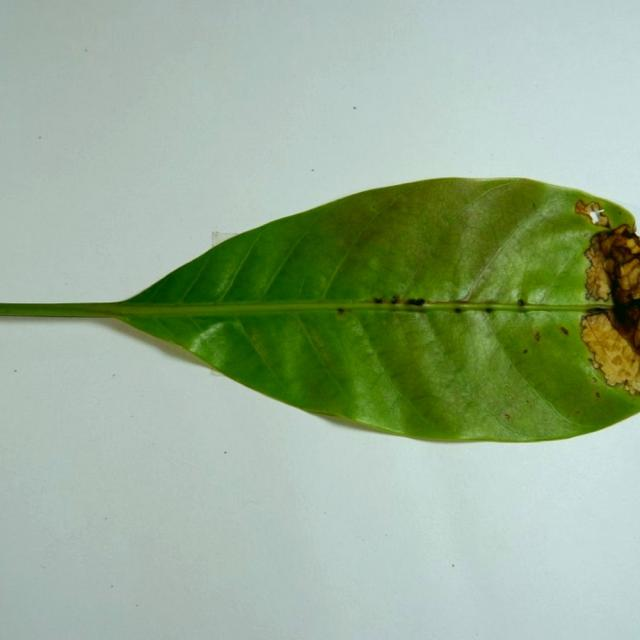Anthracnose: (290, 314, 363, 397), (241, 326, 279, 371), (297, 320, 337, 362), (585, 253, 612, 300), (525, 324, 557, 352), (576, 254, 613, 278), (600, 330, 631, 348), (555, 318, 576, 342), (556, 324, 570, 337), (485, 299, 505, 307), (534, 332, 540, 341), (504, 413, 510, 420), (574, 409, 580, 415), (594, 392, 600, 398), (522, 348, 528, 354), (583, 232, 589, 238), (592, 377, 597, 383), (532, 203, 536, 209), (526, 399, 530, 404)
Mango: (0, 178, 639, 447)
